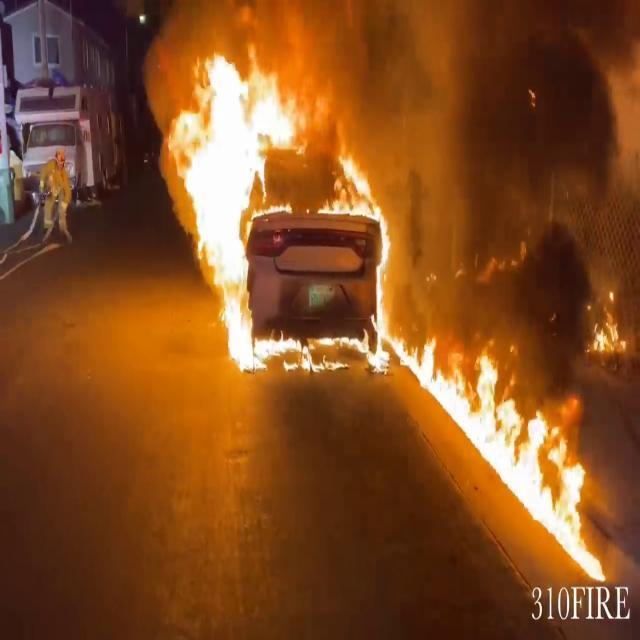Fire: (165, 42, 308, 374), (340, 144, 394, 366), (459, 336, 530, 496), (536, 422, 606, 584), (384, 321, 450, 413), (587, 286, 632, 360)
Smoke: (320, 0, 542, 299)
